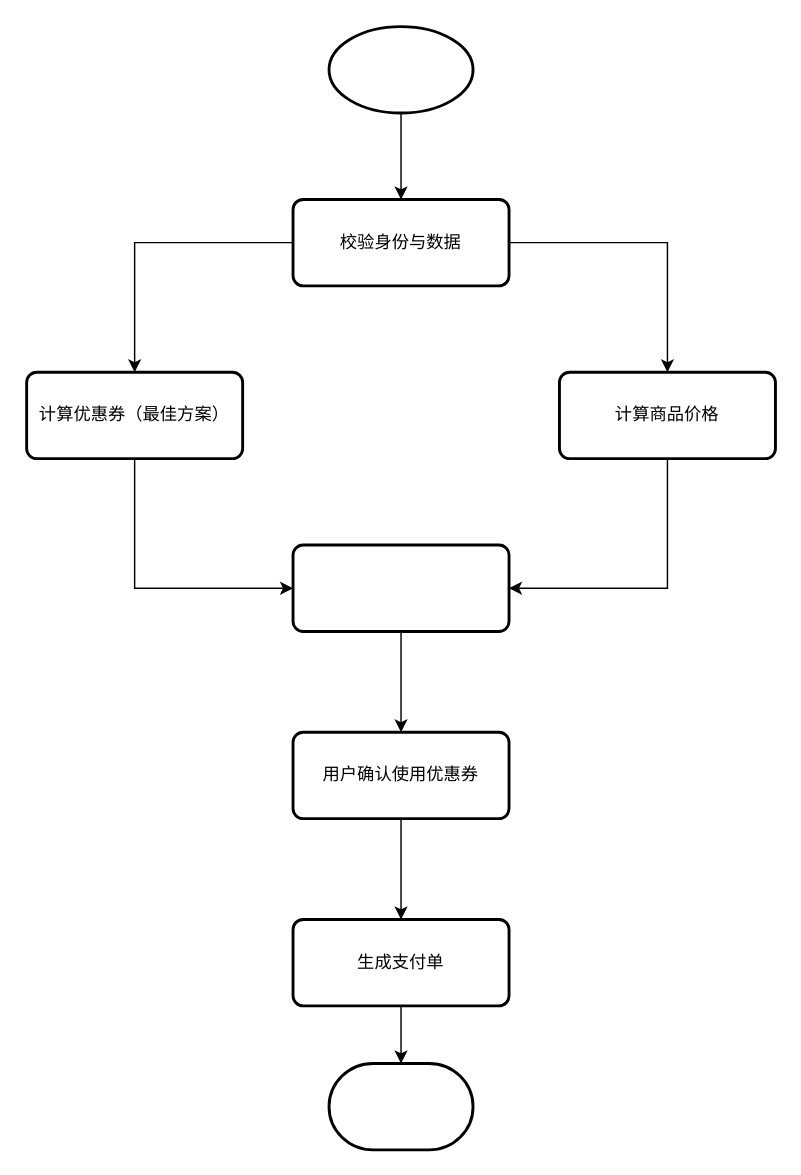
This 801x1175 diagram has some shape labels left out. The shapes that lost their labels are listed below. From the top down, each one's centre as x and y in pixels, then its label:
(400,69): 开始结算
(400,587): 计算最后总价格
(400,1106): 结束
